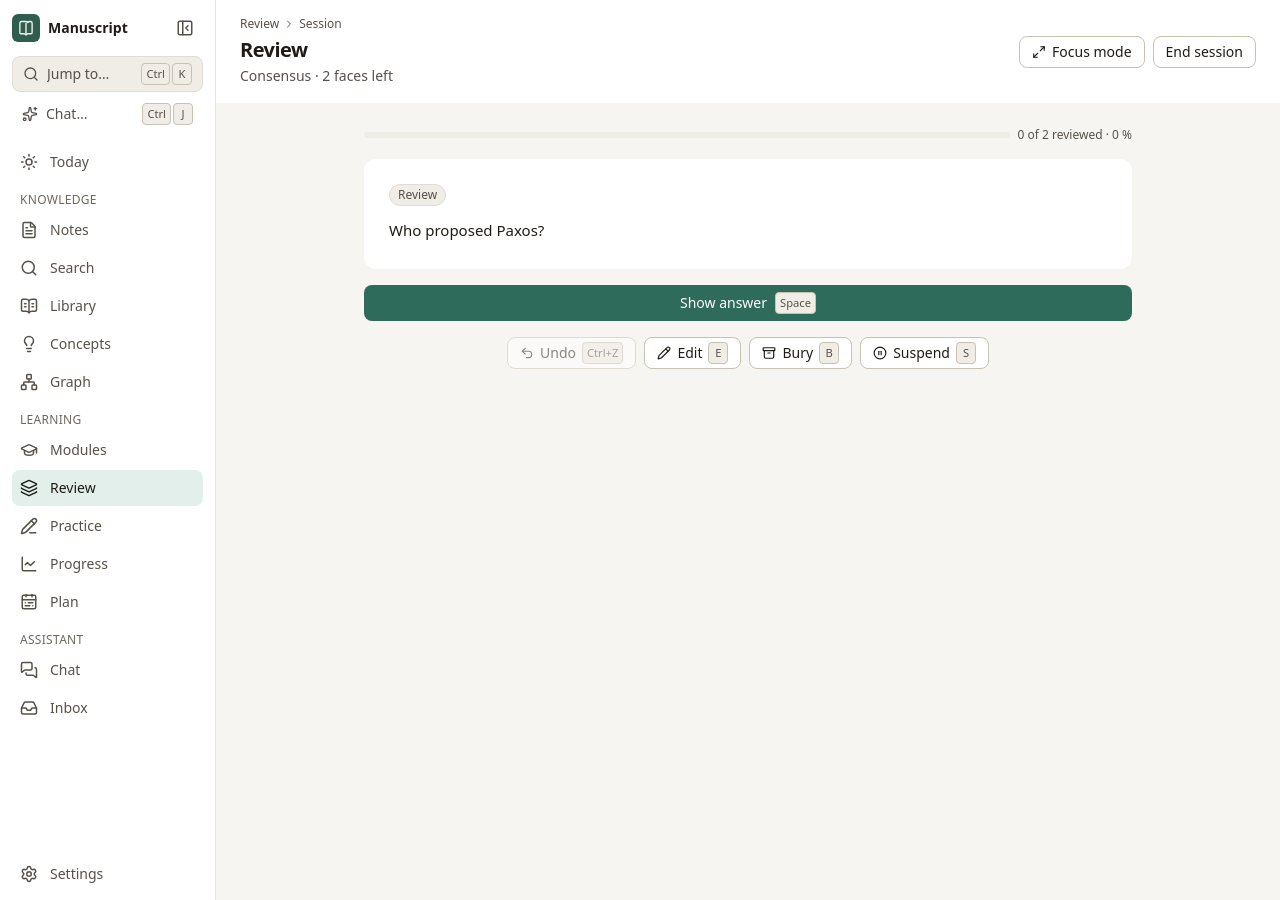
Scenario: a review session › reveals, rates by keyboard, undoes and ends with a summary
Check: the text "Who proposed Paxos?" is shown, box [389, 220, 544, 240]
Type keys " "
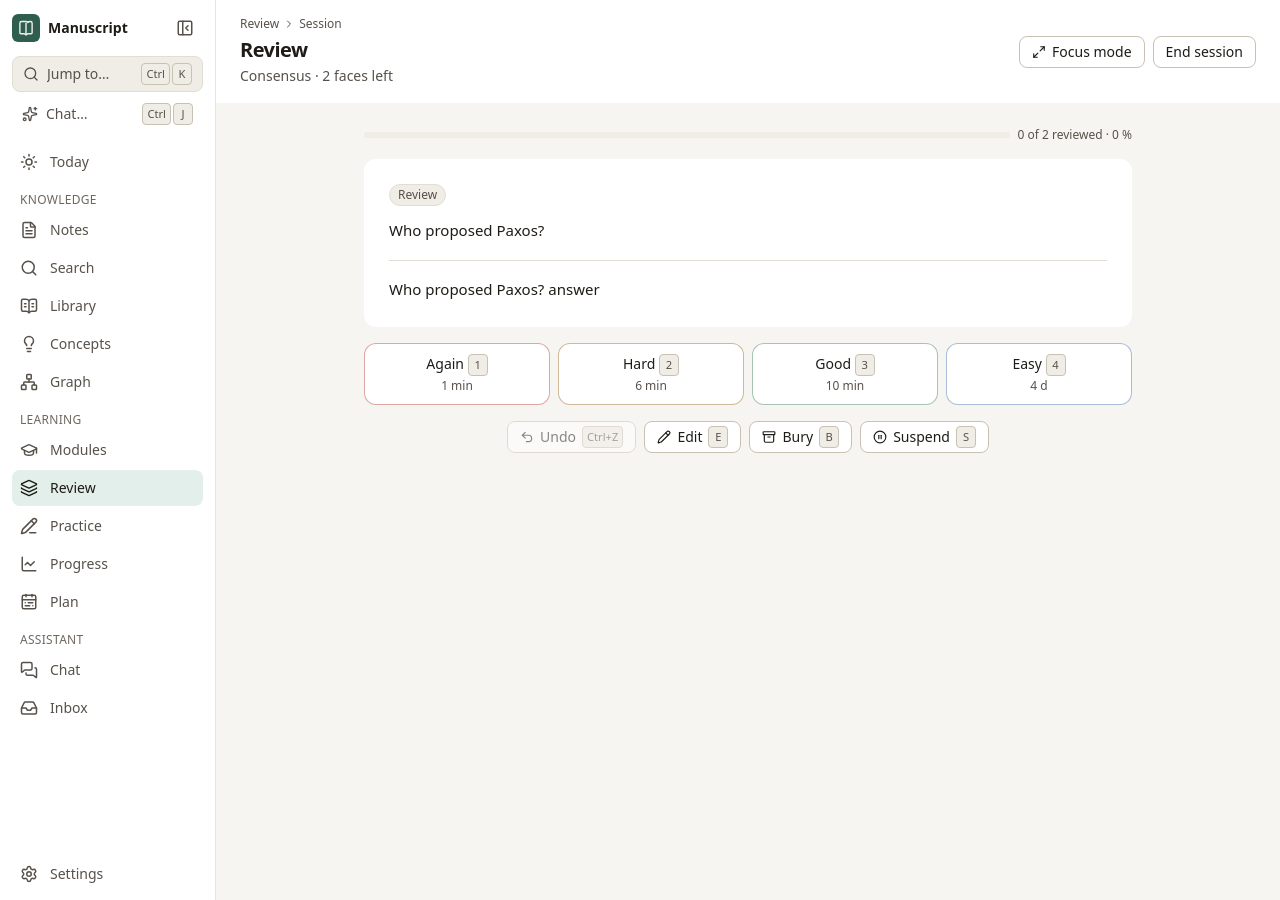
Check: the element "answer" reads "Who proposed Paxos? answer", box [389, 278, 600, 298]
Check: the button "Good 3 10 min" is shown, box [752, 343, 938, 405]
Type keys "3"
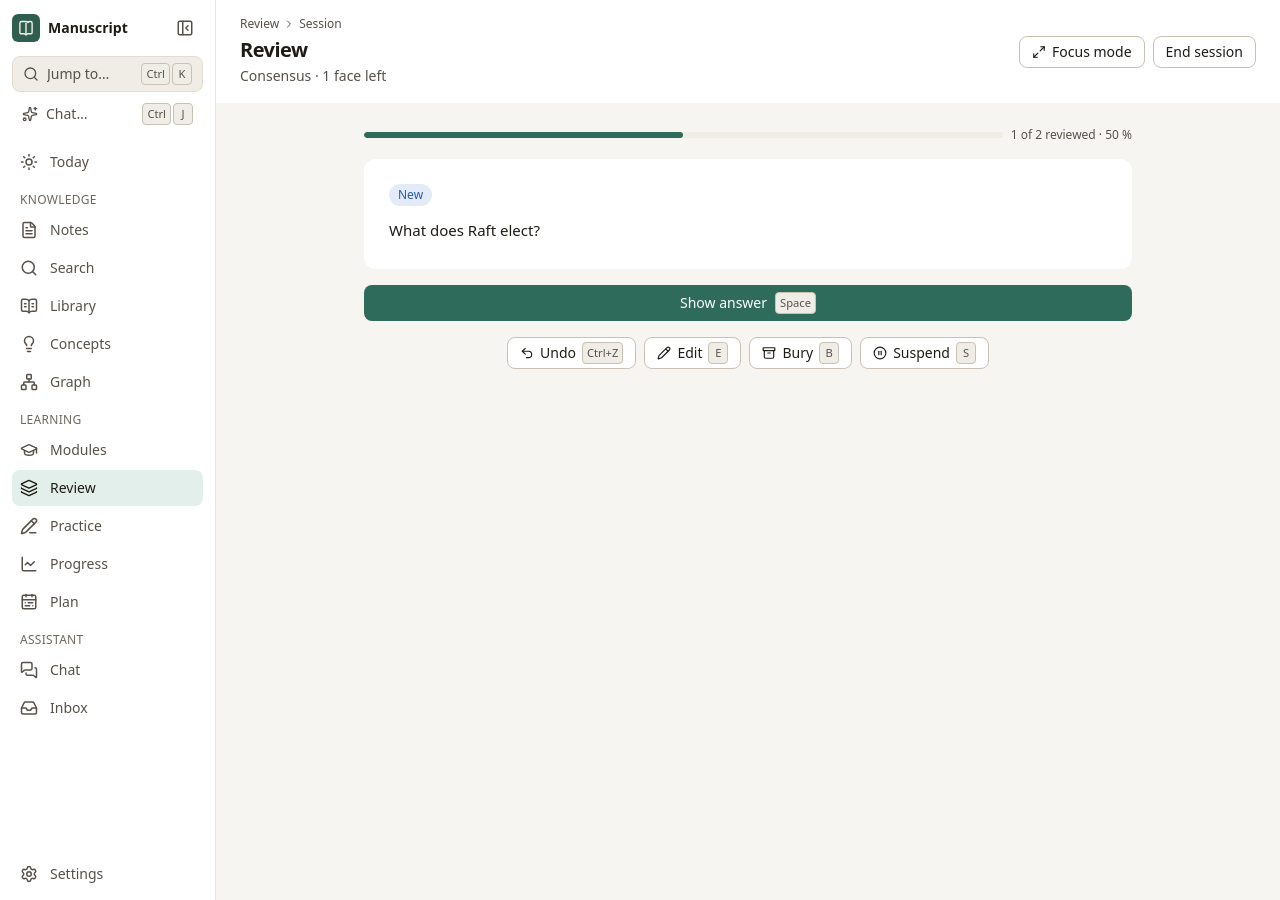
Check: the text "What does Raft elect?" is shown, box [389, 220, 540, 240]
Ratings need the answer first.
Type keys "4"
Type keys " "
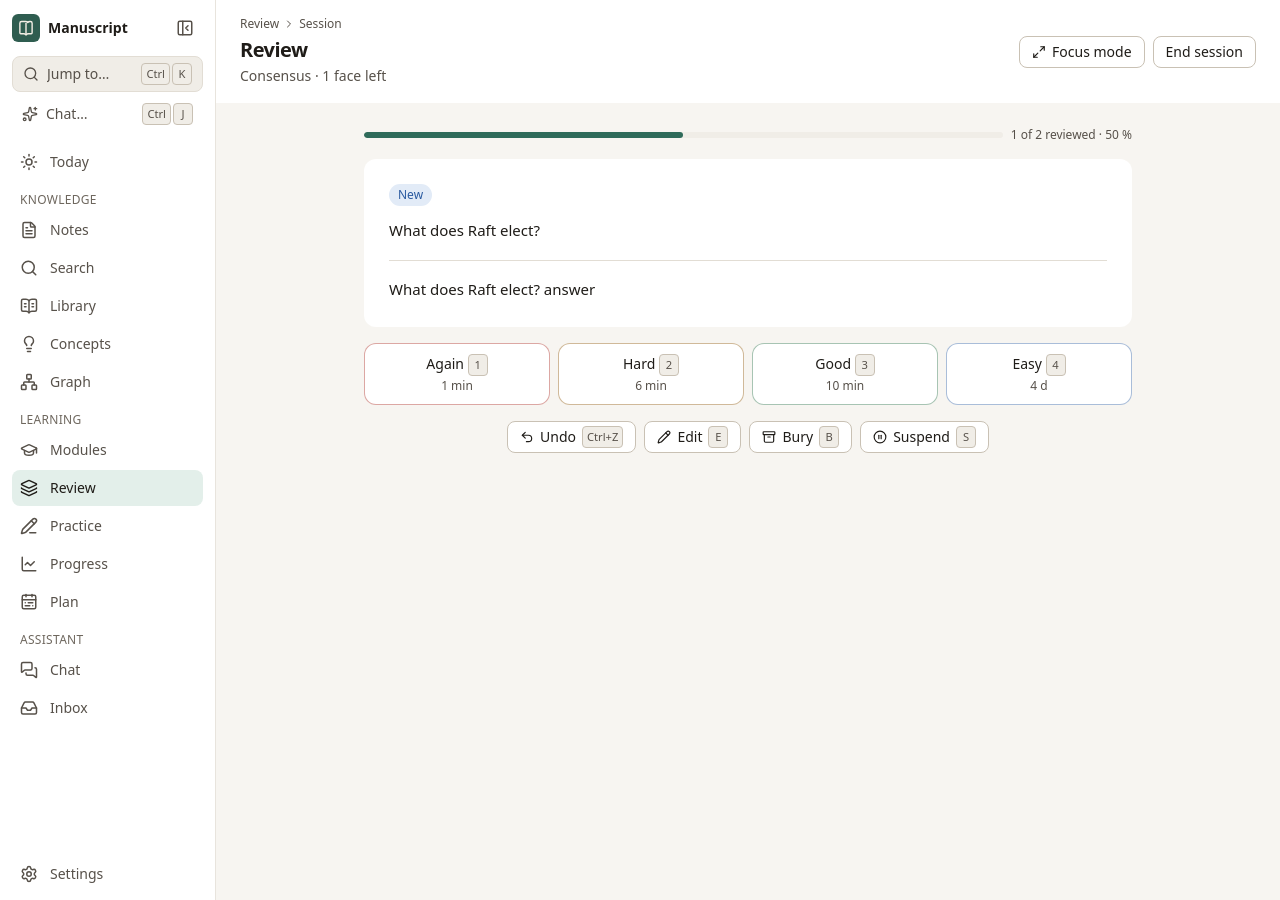
Click the button "Easy 4 4 d".
click(1039, 374)  # box [946, 343, 1132, 405]
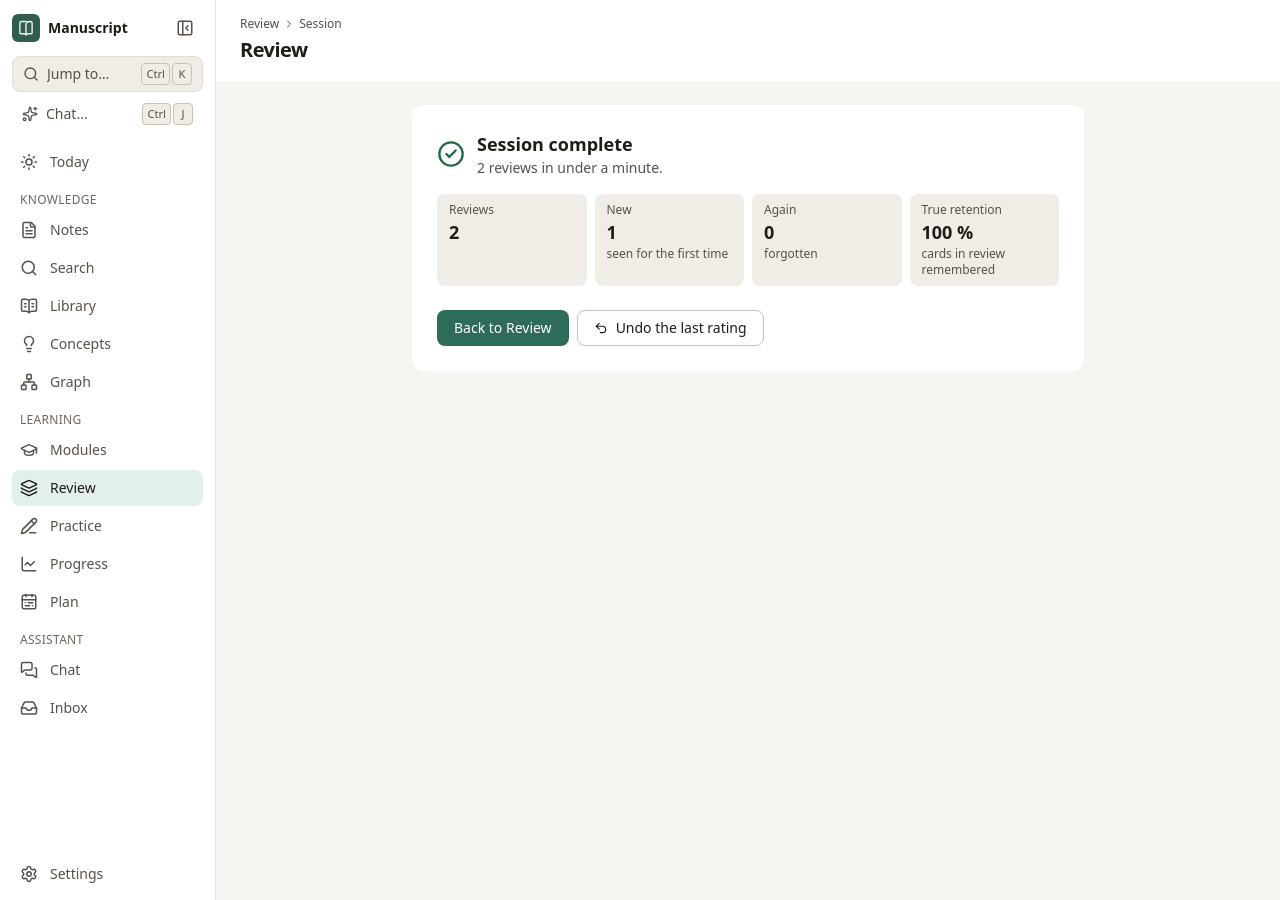
Check: the heading "Session complete" is shown, box [477, 132, 633, 156]
Check: the text "2 reviews in under a minute." is shown, box [477, 158, 663, 178]
Undo from the summary brings the last face back.
Type keys "{Control>}z{/Control}"
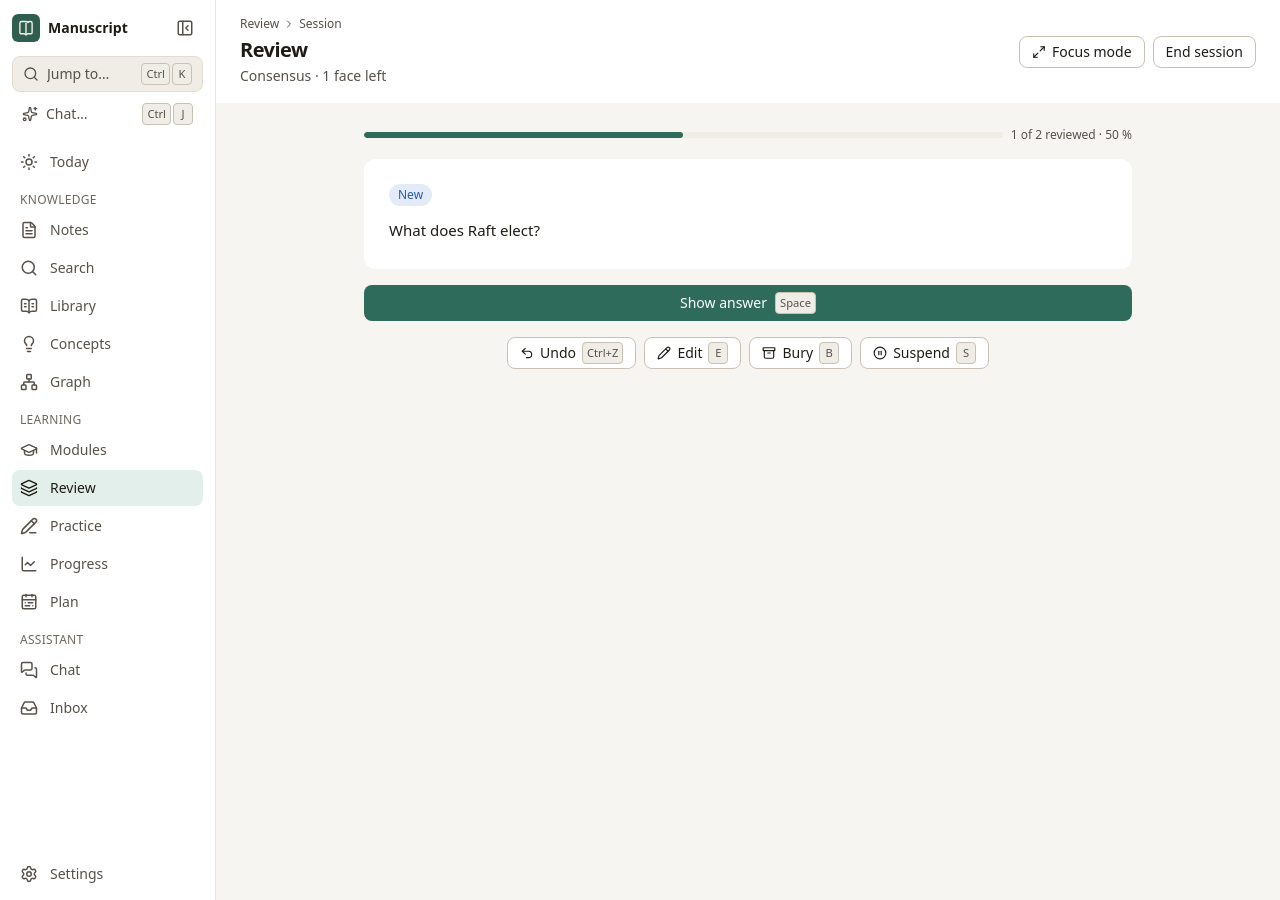
Check: the element named "Question" reads "What does Raft elect?", box [389, 220, 540, 240]
